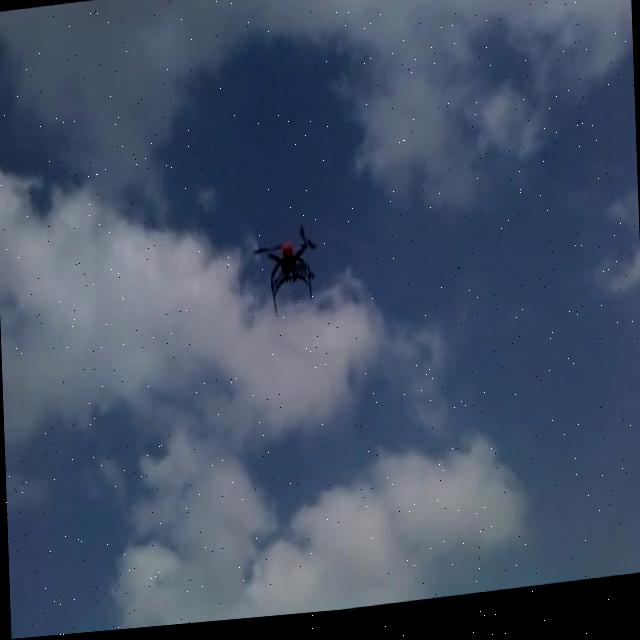drone: (248, 224, 318, 318)
